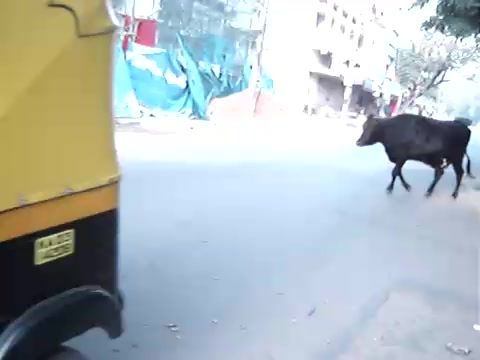cow: (357, 116, 476, 202)
